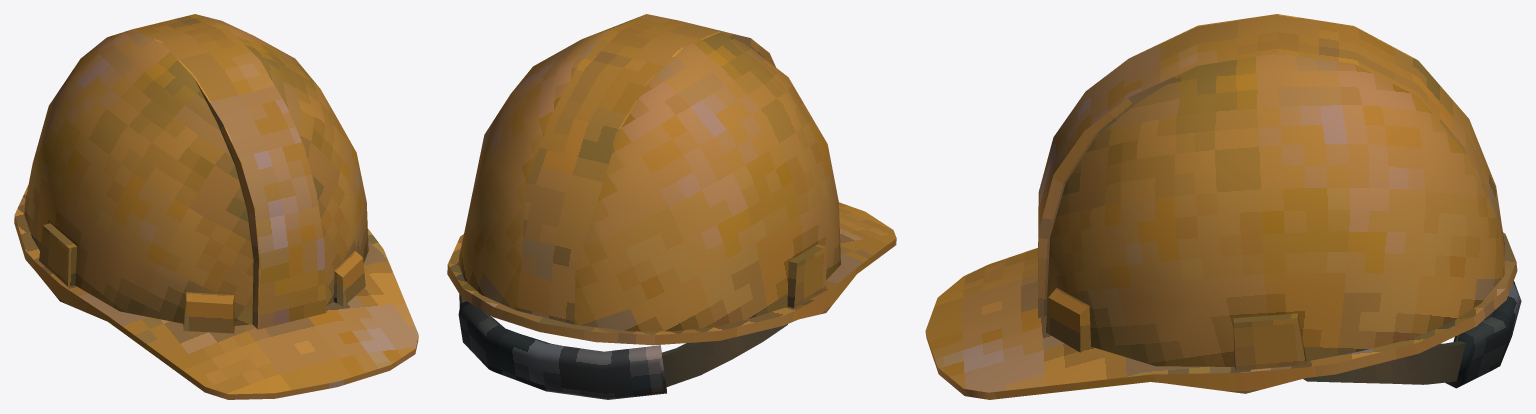
File: sm21_010_safetyhelmet01a.fbx
The picture shows the model from 3 angles, left to right: view 1: azimuth 30°, elevation 25°; view 2: azimuth 150°, elevation 25°; view 3: azimuth 270°, elevation 25°; orthographic projection. The views are drawn at different scales.
Parts seen in each view (by area): view 1: LOD_1_Group_0_Sub_1__sm21_010_SafetyHelmet01A_B_Mat; view 2: LOD_1_Group_0_Sub_1__sm21_010_SafetyHelmet01A_B_Mat; view 3: LOD_1_Group_0_Sub_1__sm21_010_SafetyHelmet01A_B_Mat.
Part boxes in pixels (<box>): LOD_1_Group_0_Sub_1__sm21_010_SafetyHelmet01A_B_Mat: <box>14,14,418,399</box>; LOD_1_Group_0_Sub_1__sm21_010_SafetyHelmet01A_B_Mat: <box>447,14,896,399</box>; LOD_1_Group_0_Sub_1__sm21_010_SafetyHelmet01A_B_Mat: <box>925,14,1521,399</box>.
Size of the model in its own units: 18.8 by 15.23 by 26.67.
